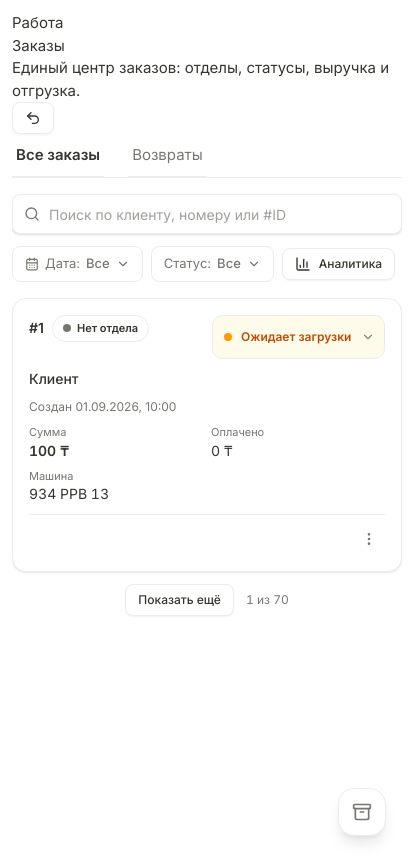
gives staff who do not review requests only «Все заказы» and «Возвраты»
Expected: the field with placeholder "Поиск по клиенту, номеру или #ID" is shown, x1=12 y1=194 x2=402 y2=234
Click the tab "Возвраты" at (167, 156), box x1=128 y1=134 x2=207 y2=178
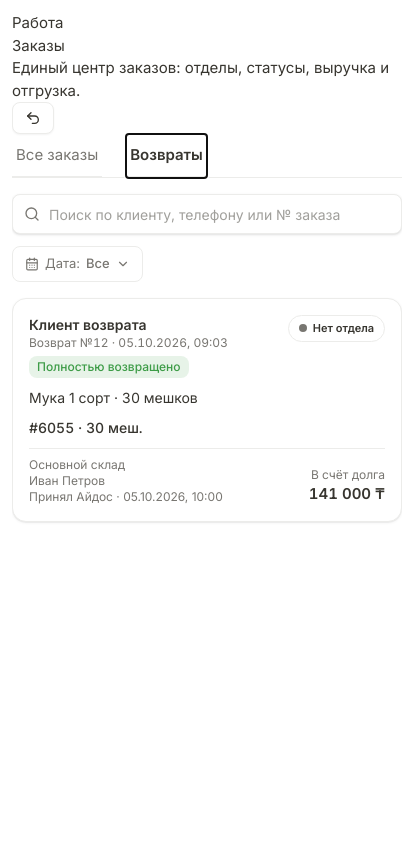
Expected: the field with placeholder "Поиск по клиенту, номеру или #ID" is not shown
Expected: the text "Клиент возврата" is shown, x1=29 y1=316 x2=146 y2=333
